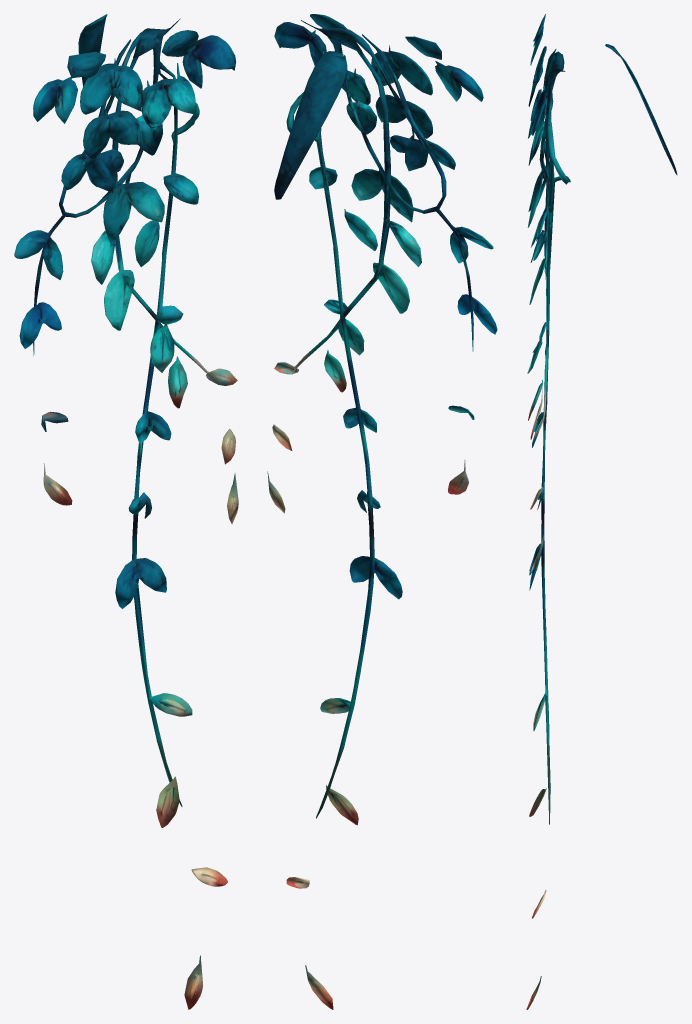
File: chuitengcao.glb
3 views of the same model, side by side, from view 1: azimuth 30°, elevation 25°; view 2: azimuth 150°, elevation 25°; view 3: azimuth 270°, elevation 25° (orthographic). The views are drawn at different scales.
Parts seen in each view (by area): view 1: node_0; view 2: node_0; view 3: node_0.
Boxes of the visible parts, bbox=[...] form: node_0: bbox=[14, 14, 238, 1009]; node_0: bbox=[267, 14, 497, 1009]; node_0: bbox=[526, 14, 677, 1009].
Size of the model in its own units: 0.2752 by 1.16 by 0.1685.
1 material, 1 textured.
